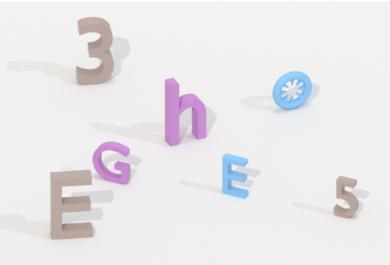0-TronLo: (269, 67, 316, 115)
3: (72, 13, 118, 89)
5: (332, 172, 362, 223)
E: (45, 168, 98, 245), (218, 149, 252, 202)
G: (90, 138, 136, 189)
h: (161, 72, 211, 149)
